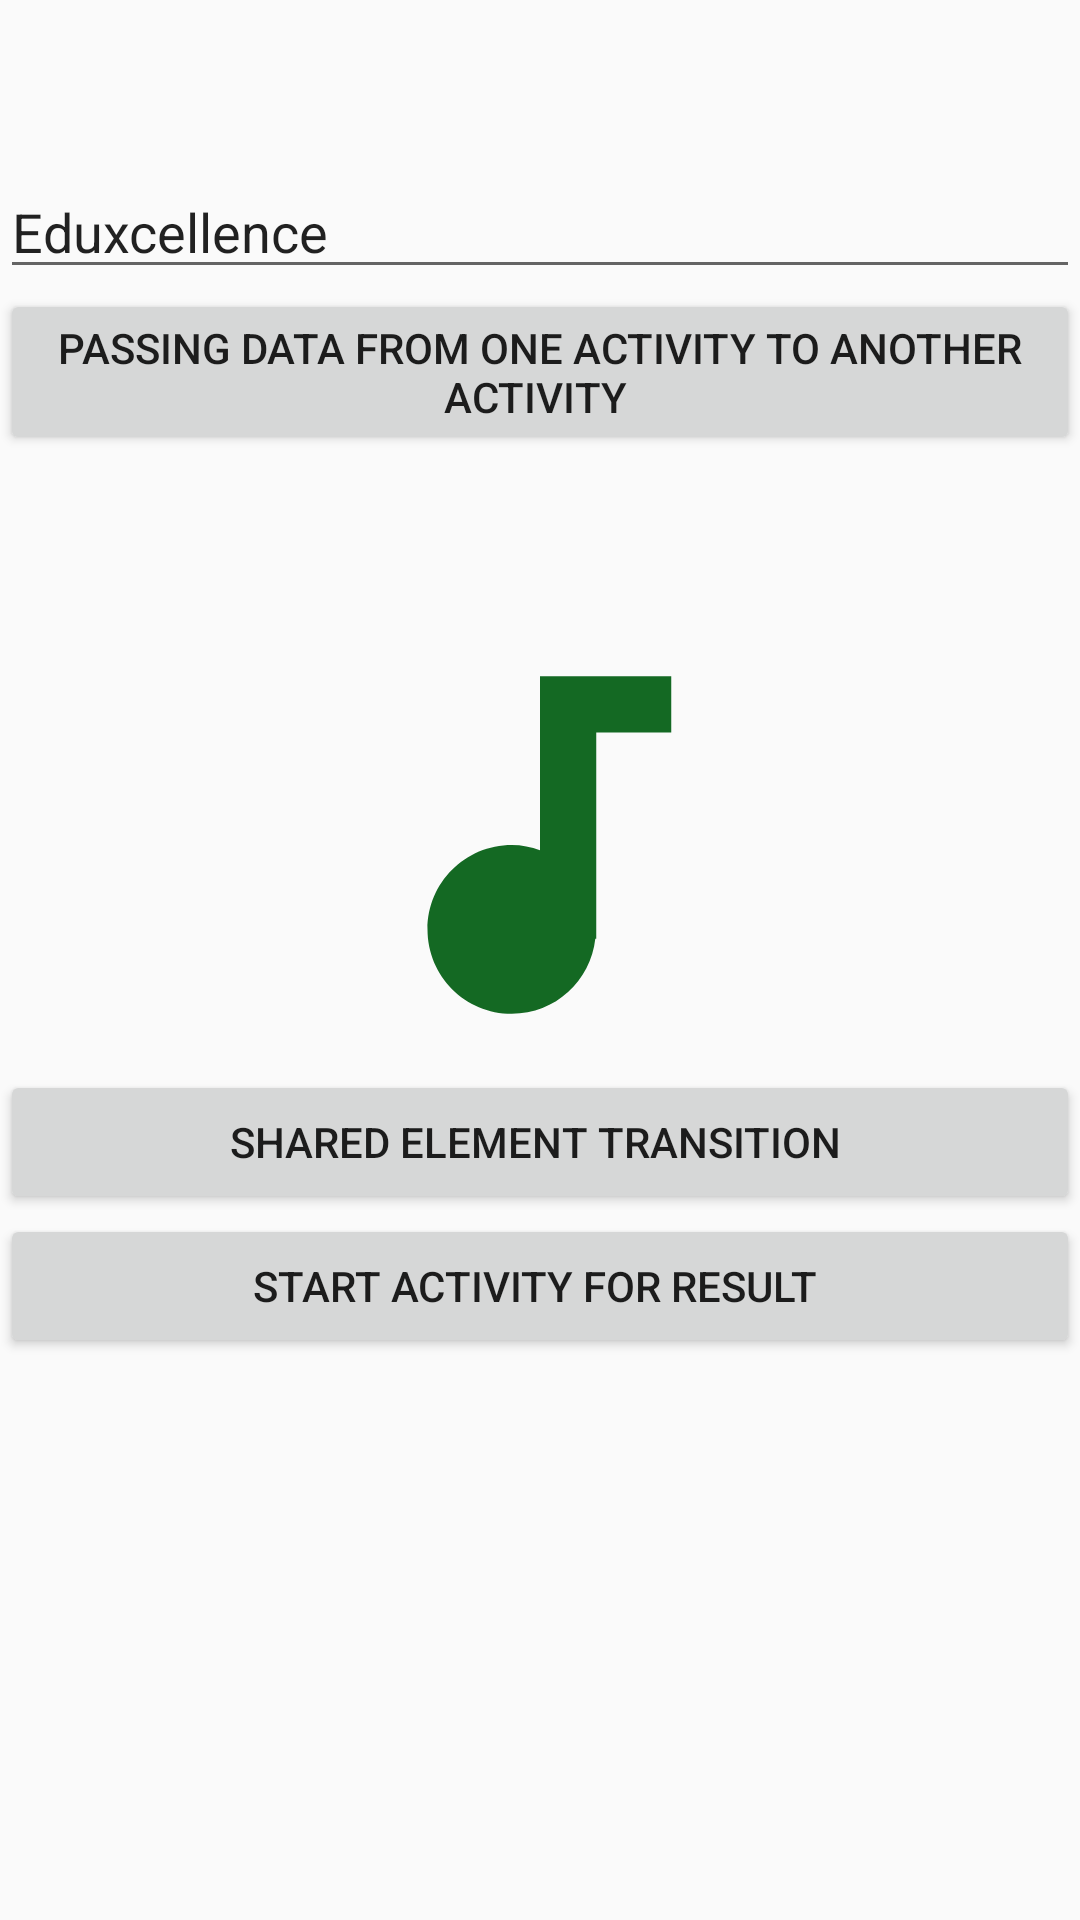

Named icons in this screenshot (1080x1920) and their bounding boxes, [left=x1, top=y1, right=x2, bottom=y2]:
audiotrack: [left=427, top=676, right=672, bottom=1014]
